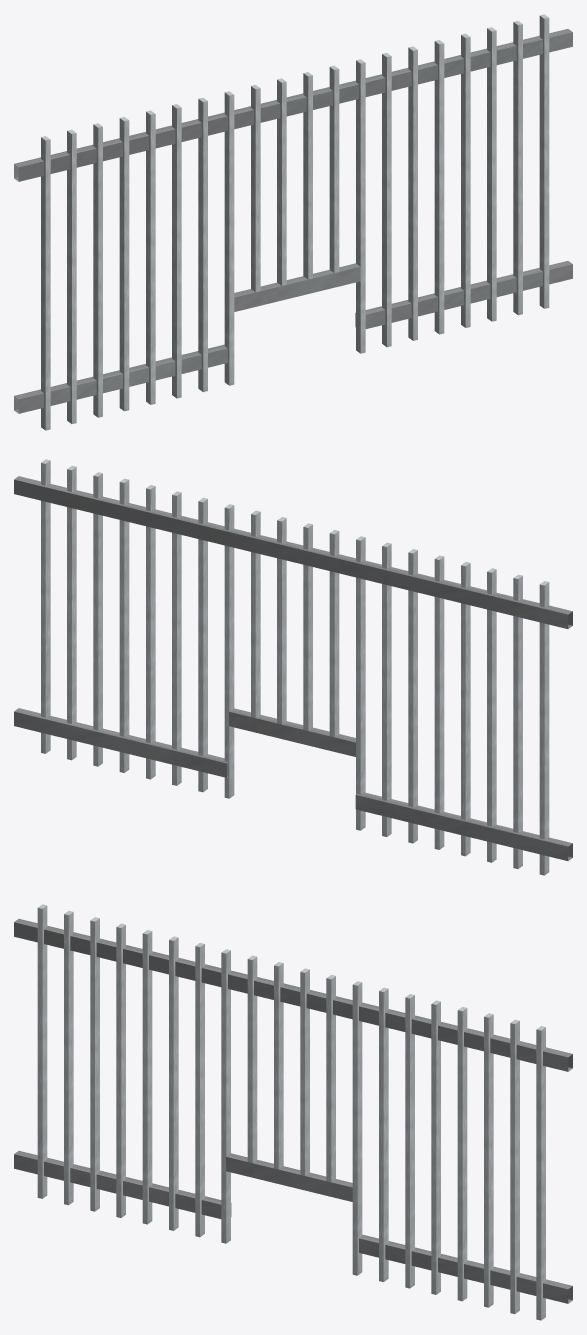
File: prop_sch_canteen_metalBar2.fbx
The picture shows the model from 3 angles, top to bottom: view 1: azimuth 30°, elevation 25°; view 2: azimuth 150°, elevation 25°; view 3: azimuth 330°, elevation 25°; orthographic projection.
Parts seen in each view (by area): view 1: prop_sch_furniture_cn2_metalBar; view 2: prop_sch_furniture_cn2_metalBar; view 3: prop_sch_furniture_cn2_metalBar.
Part boxes in pixels (<box>): prop_sch_furniture_cn2_metalBar: <box>14,14,572,430</box>; prop_sch_furniture_cn2_metalBar: <box>14,459,572,875</box>; prop_sch_furniture_cn2_metalBar: <box>14,904,572,1320</box>.
Bounding box in the file's own units: 200 × 100 × 4.
